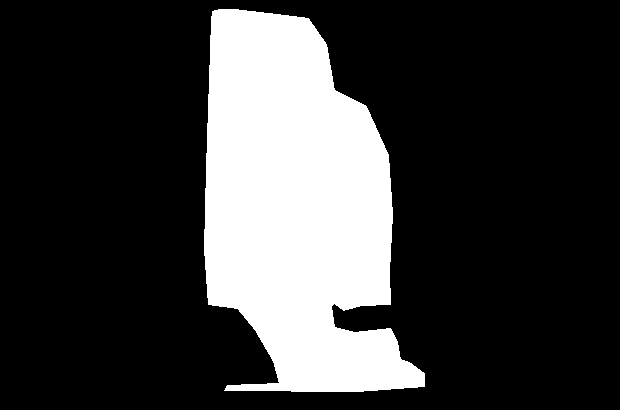type2: (196, 7, 426, 392)
